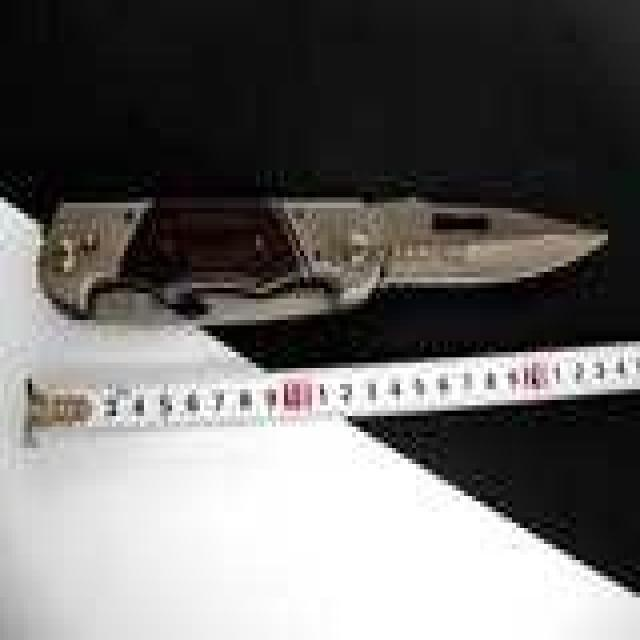knife: (28, 173, 640, 360)
